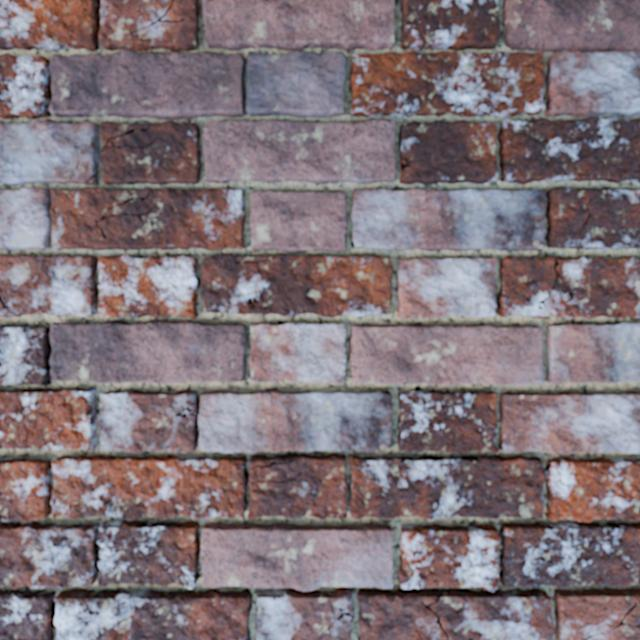brick: (349, 455, 639, 639), (0, 0, 244, 185), (0, 521, 251, 639), (0, 388, 391, 452), (0, 454, 346, 521), (350, 0, 544, 116), (203, 0, 394, 117), (201, 523, 392, 639), (352, 187, 639, 250), (0, 321, 245, 385), (0, 187, 243, 249), (398, 257, 639, 318), (203, 119, 395, 183), (0, 255, 197, 317), (200, 254, 392, 316), (350, 325, 542, 384), (498, 116, 639, 184), (499, 391, 639, 453), (398, 391, 498, 452), (399, 121, 497, 183), (546, 52, 639, 116), (249, 322, 345, 382), (251, 191, 346, 251), (546, 322, 639, 383), (322, 617, 351, 639), (590, 626, 639, 639)
broken_brick: (502, 0, 639, 53)
crack: (585, 601, 639, 639), (538, 256, 575, 310), (129, 0, 185, 34), (420, 595, 449, 639), (319, 606, 353, 639), (249, 472, 301, 485), (250, 456, 294, 470), (236, 254, 281, 264), (400, 156, 411, 171), (0, 295, 9, 309), (568, 48, 583, 53), (402, 122, 420, 126), (386, 430, 392, 437), (492, 306, 497, 313), (627, 49, 636, 52), (539, 49, 544, 52), (609, 50, 616, 52)
